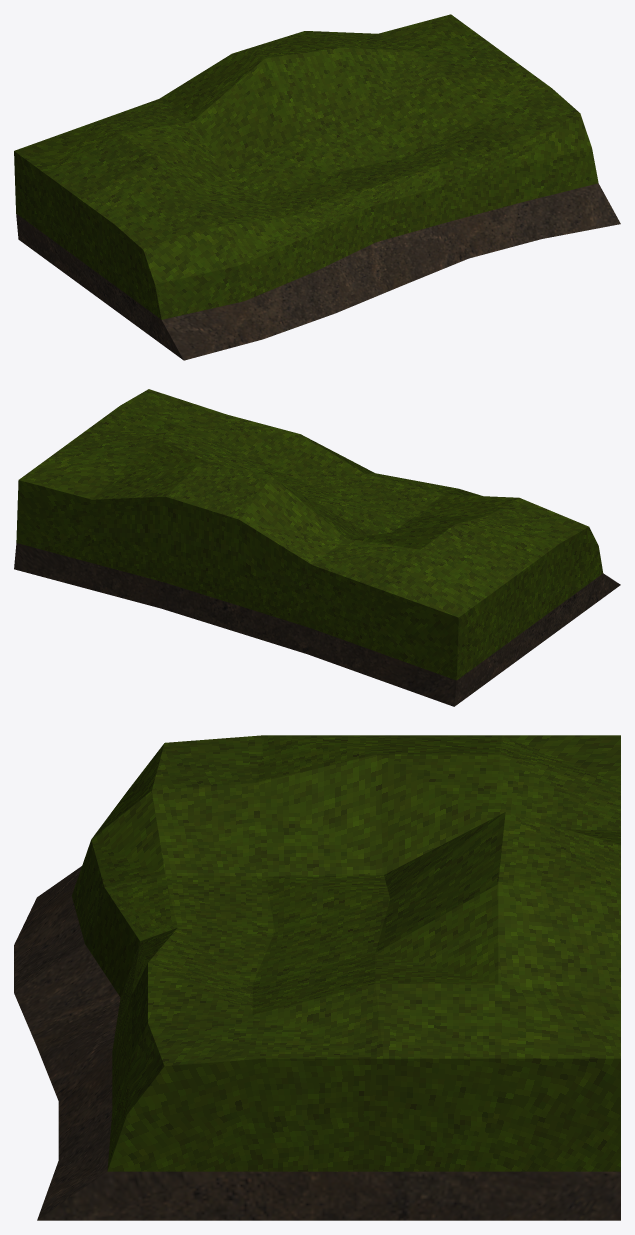
Rendered from ground2.fbx.
3 views of the same model, one above another, from view 1: azimuth 30°, elevation 25°; view 2: azimuth 150°, elevation 25°; view 3: azimuth 270°, elevation 25° (orthographic). The views are drawn at different scales.
Parts seen in each view (by area): view 1: HighGround2; view 2: HighGround2; view 3: HighGround2.
Boxes of the visible parts, <box> form: HighGround2: <box>14,14,620,360</box>; HighGround2: <box>14,389,620,706</box>; HighGround2: <box>14,735,620,1220</box>.
Size of the model in its own units: 1810 by 598 by 1221.
